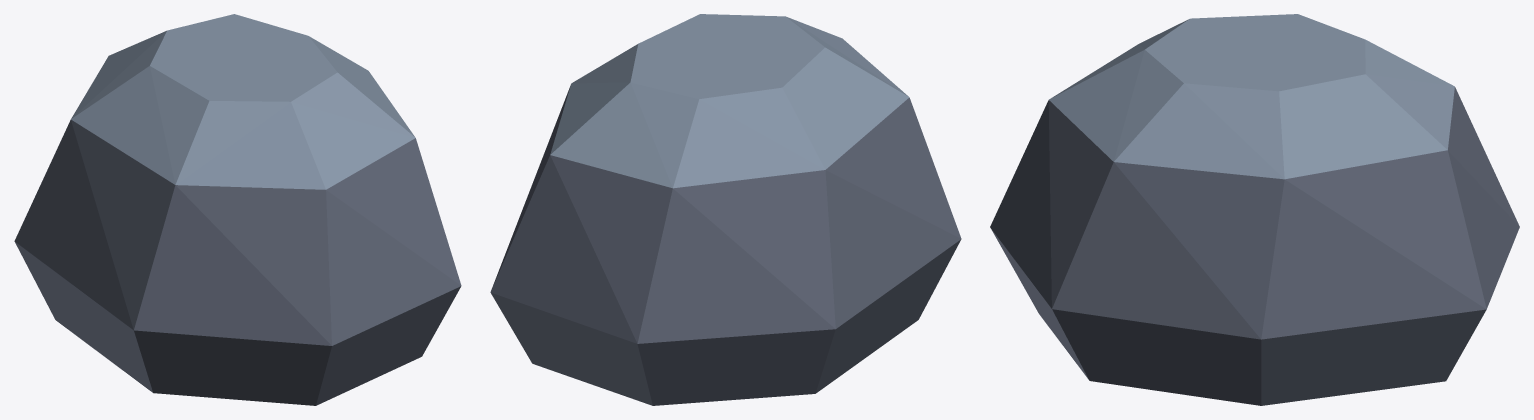
File: cave-rock-small.glb
3 renders of one model, left to right at view 1: azimuth 30°, elevation 25°; view 2: azimuth 150°, elevation 25°; view 3: azimuth 270°, elevation 25°, orthographic. The views are drawn at different scales.
Visible parts, largest first — view 1: cave-rock-small__body; view 2: cave-rock-small__body; view 3: cave-rock-small__body.
Boxes of the visible parts, x1=… form: cave-rock-small__body: x1=14, y1=14, x2=461, y2=405; cave-rock-small__body: x1=490, y1=14, x2=961, y2=405; cave-rock-small__body: x1=990, y1=14, x2=1519, y2=405.
Bounding box in the file's own units: 1.05 × 0.75 × 1.3.
